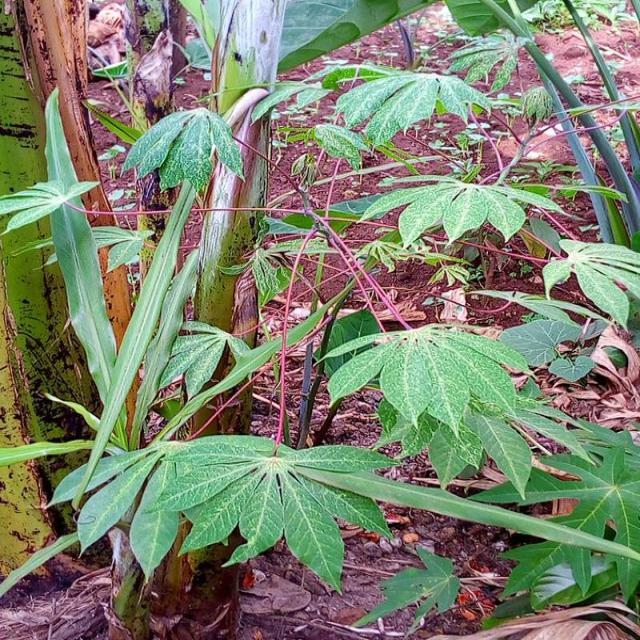cassava leaf: (128, 432, 399, 595), (325, 321, 534, 490), (120, 106, 246, 195)
